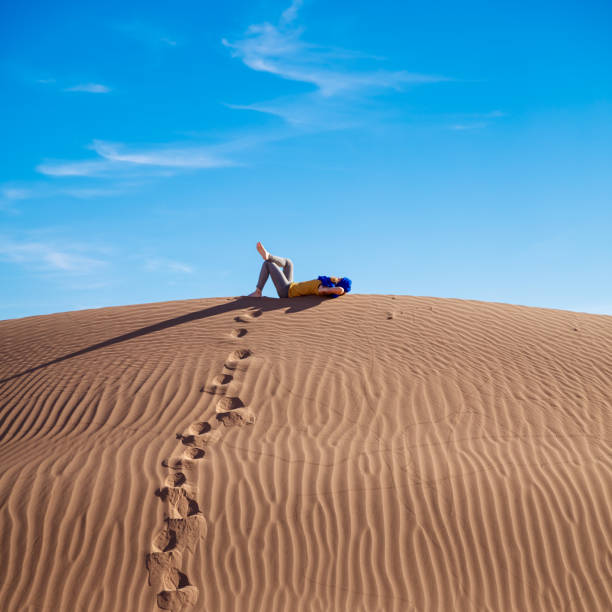human_foot_print: (146, 421, 219, 609)
